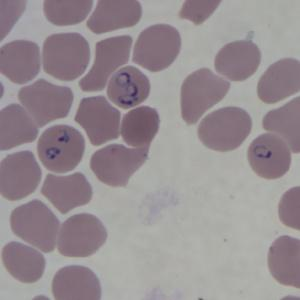Infected: (37, 123, 85, 174), (103, 64, 151, 109), (247, 134, 291, 179)
Uninfected: (77, 35, 133, 93), (18, 78, 74, 130), (180, 69, 231, 126), (91, 141, 151, 188), (9, 199, 59, 255), (197, 105, 251, 152), (131, 24, 182, 73), (42, 32, 91, 83), (75, 95, 122, 147), (57, 212, 108, 259), (41, 171, 93, 216), (264, 93, 300, 154), (0, 149, 42, 201), (214, 39, 261, 82), (257, 57, 300, 104), (87, 0, 143, 35), (2, 241, 46, 284), (0, 103, 39, 151), (1, 39, 41, 85), (120, 105, 160, 149), (52, 265, 102, 300), (268, 235, 300, 289), (43, 0, 94, 27)
